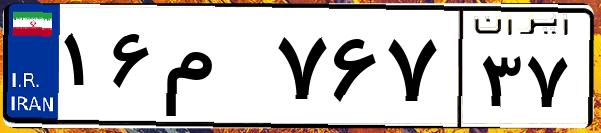1: (57, 26, 110, 100)
3: (475, 38, 525, 113)
6: (330, 28, 385, 110), (110, 28, 158, 98)
7: (270, 28, 330, 110), (385, 28, 445, 110), (525, 38, 570, 115)
م: (158, 20, 270, 120)
